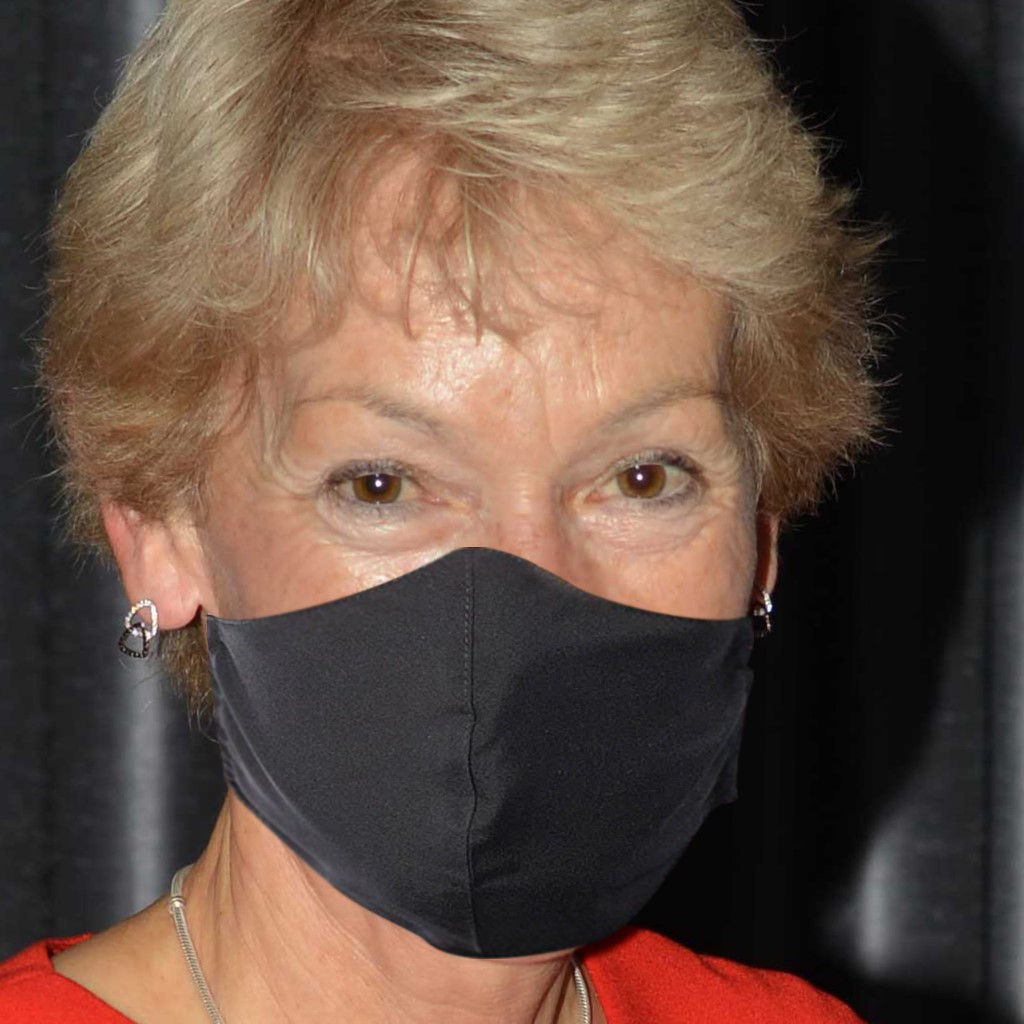con_mascara: (170, 194, 780, 963)
